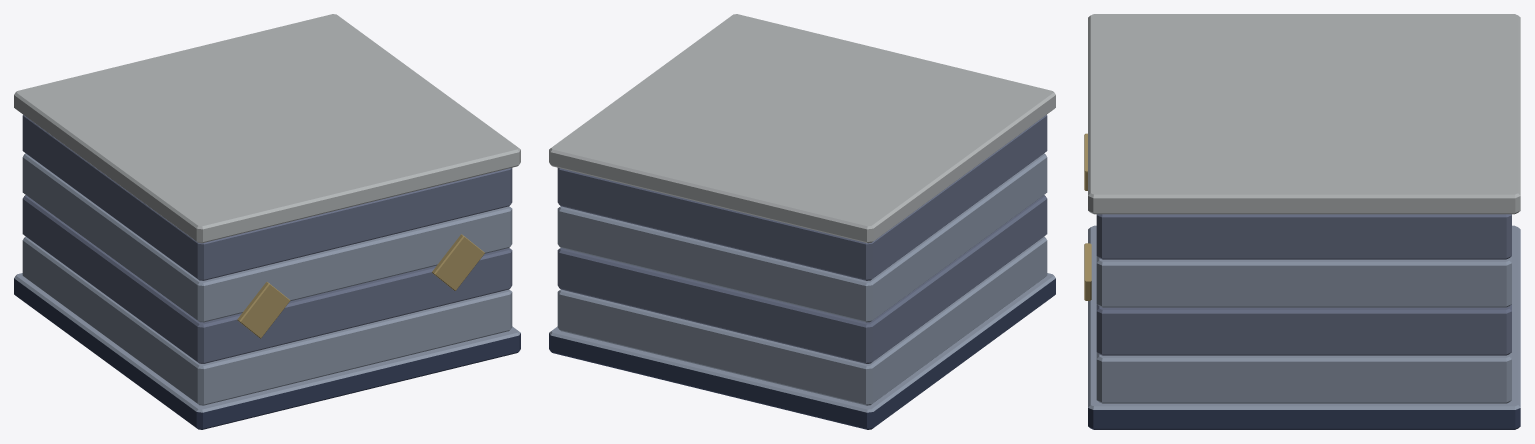
Rendered from platform.glb.
3 views of the same model, side by side, from view 1: azimuth 30°, elevation 25°; view 2: azimuth 150°, elevation 25°; view 3: azimuth 270°, elevation 25° (orthographic). The views are drawn at different scales.
Visible parts, largest first — view 1: platform__body; view 2: platform__body; view 3: platform__body.
Boxes of the visible parts, x1,y1,x2,y2 form: platform__body: (14, 14, 520, 429); platform__body: (549, 14, 1055, 429); platform__body: (1084, 14, 1520, 429).
Bounding box in the file's own units: 2 × 1.2 × 2.02.
